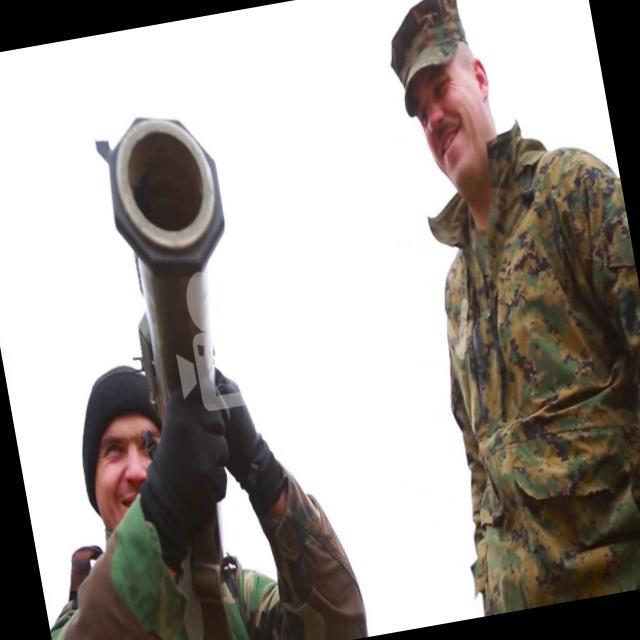rocket: (97, 103, 255, 420)
